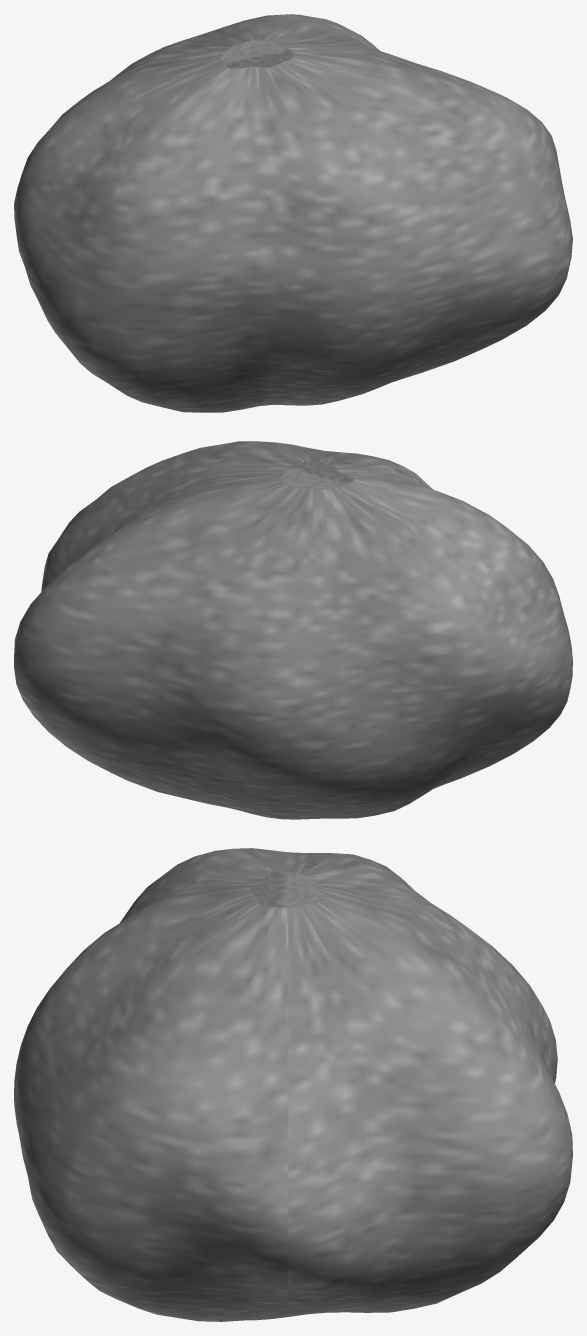
Rendered from granite_boulder_large.glb.
3 views of the same model, one above another, from view 1: azimuth 30°, elevation 25°; view 2: azimuth 150°, elevation 25°; view 3: azimuth 270°, elevation 25° (orthographic). The views are drawn at different scales.
Parts seen in each view (by area): view 1: granite_boulder_large; view 2: granite_boulder_large; view 3: granite_boulder_large.
Boxes of the visible parts, <box> form: granite_boulder_large: <box>14,14,572,412</box>; granite_boulder_large: <box>14,441,572,819</box>; granite_boulder_large: <box>14,848,572,1321</box>.
Bounding box in the file's own units: 3.4 × 2.1 × 2.8.
1 material, 1 textured.
